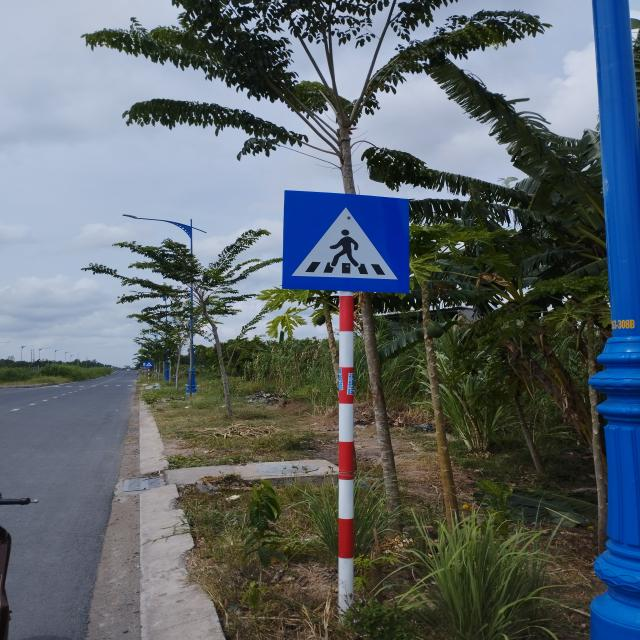Giao_Nhau_Duong_Uu_Tien: (283, 191, 411, 293)
